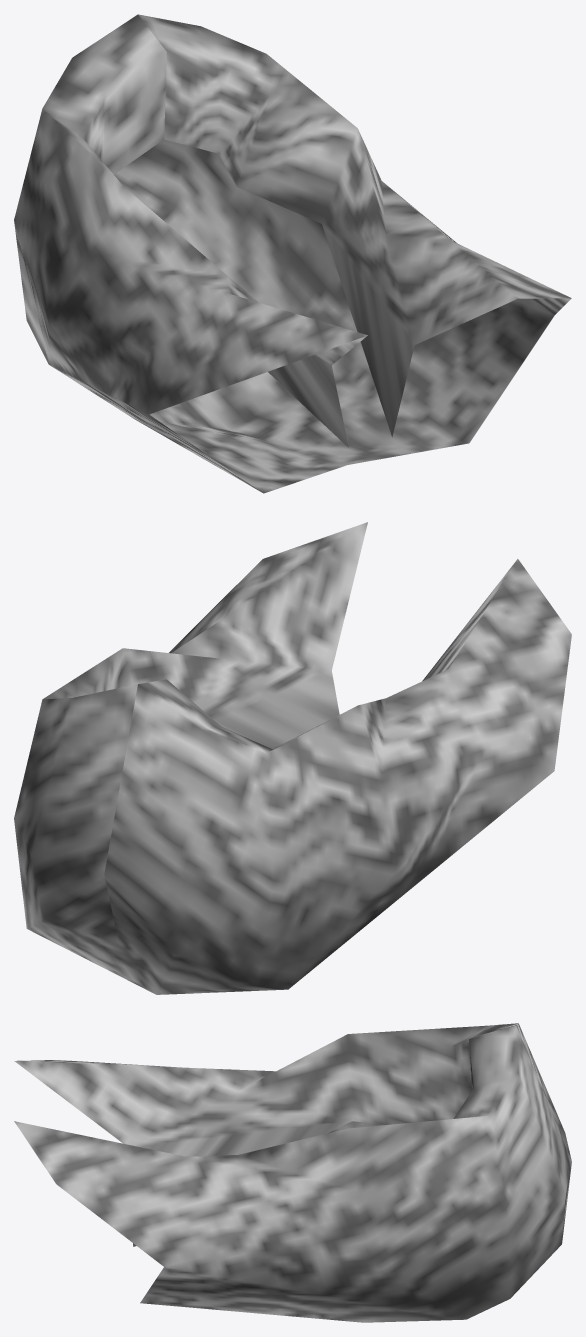
Rendered from Wig_Kate_Hair_LongCurly.fbx.
The picture shows the model from 3 angles, top to bottom: view 1: azimuth 30°, elevation 25°; view 2: azimuth 150°, elevation 25°; view 3: azimuth 270°, elevation 25°; orthographic projection. The views are drawn at different scales.
Parts seen in each view (by area): view 1: BoxOfJars003; view 2: BoxOfJars003; view 3: BoxOfJars003.
Part boxes in pixels (x1,y1,x2,y2): BoxOfJars003: (14, 14, 571, 493); BoxOfJars003: (14, 522, 571, 994); BoxOfJars003: (14, 1023, 571, 1322).
Size of the model in its own units: 16.4 by 13.44 by 23.74.
